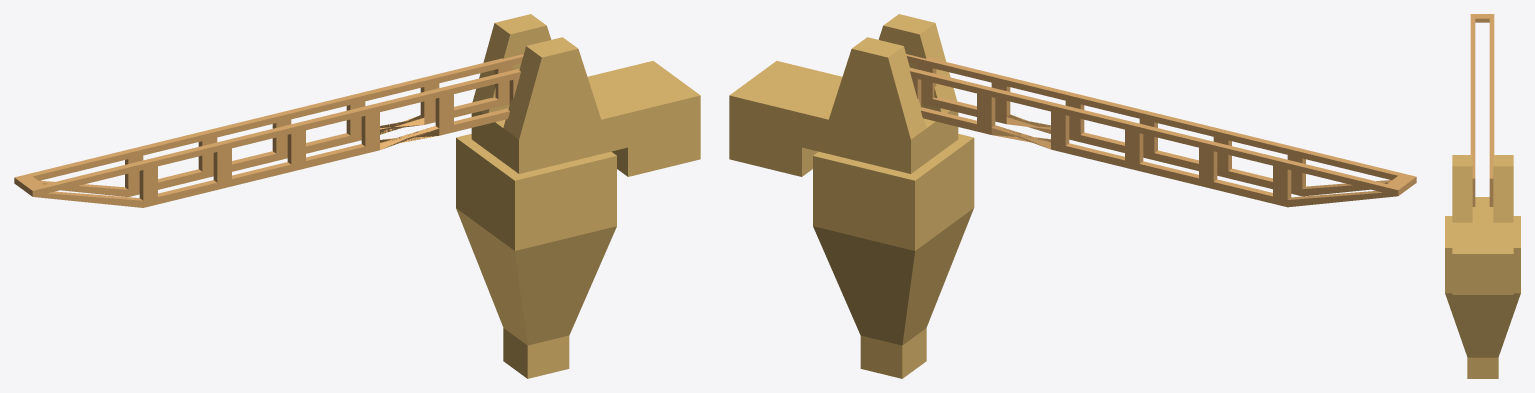
Rendered from RRRRRRR.fbx.
3 views of the same model, side by side, from view 1: azimuth 30°, elevation 25°; view 2: azimuth 150°, elevation 25°; view 3: azimuth 270°, elevation 25° (orthographic). The views are drawn at different scales.
Visible parts, largest first — view 1: Cube.055; view 2: Cube.055; view 3: Cube.055.
Boxes of the visible parts, left/top/right/bottom form: Cube.055: left=14, top=14, right=700, bottom=378; Cube.055: left=729, top=14, right=1416, bottom=378; Cube.055: left=1445, top=14, right=1520, bottom=378.
Size of the model in its own units: 3753 by 1805 by 587.
